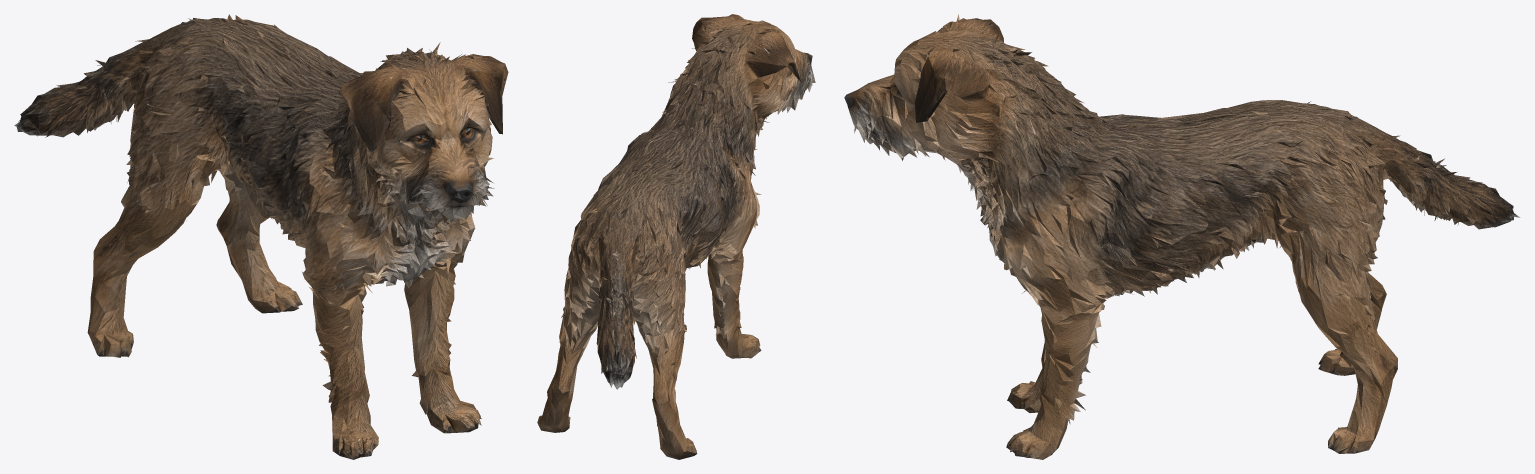
Rendered from terrier.glb.
The picture shows the model from 3 angles, left to right: view 1: azimuth 30°, elevation 25°; view 2: azimuth 150°, elevation 25°; view 3: azimuth 270°, elevation 25°; orthographic projection. The views are drawn at different scales.
Visible parts, largest first — view 1: output_unwrapped; view 2: output_unwrapped; view 3: output_unwrapped.
Boxes of the visible parts, x1,y1,x2,y2 form: output_unwrapped: (14,14,508,459); output_unwrapped: (537,14,815,459); output_unwrapped: (844,14,1520,459).
Bounding box in the file's own units: 0.1986 × 0.35 × 0.5512.
Materials: 1 (1 with a texture image).
